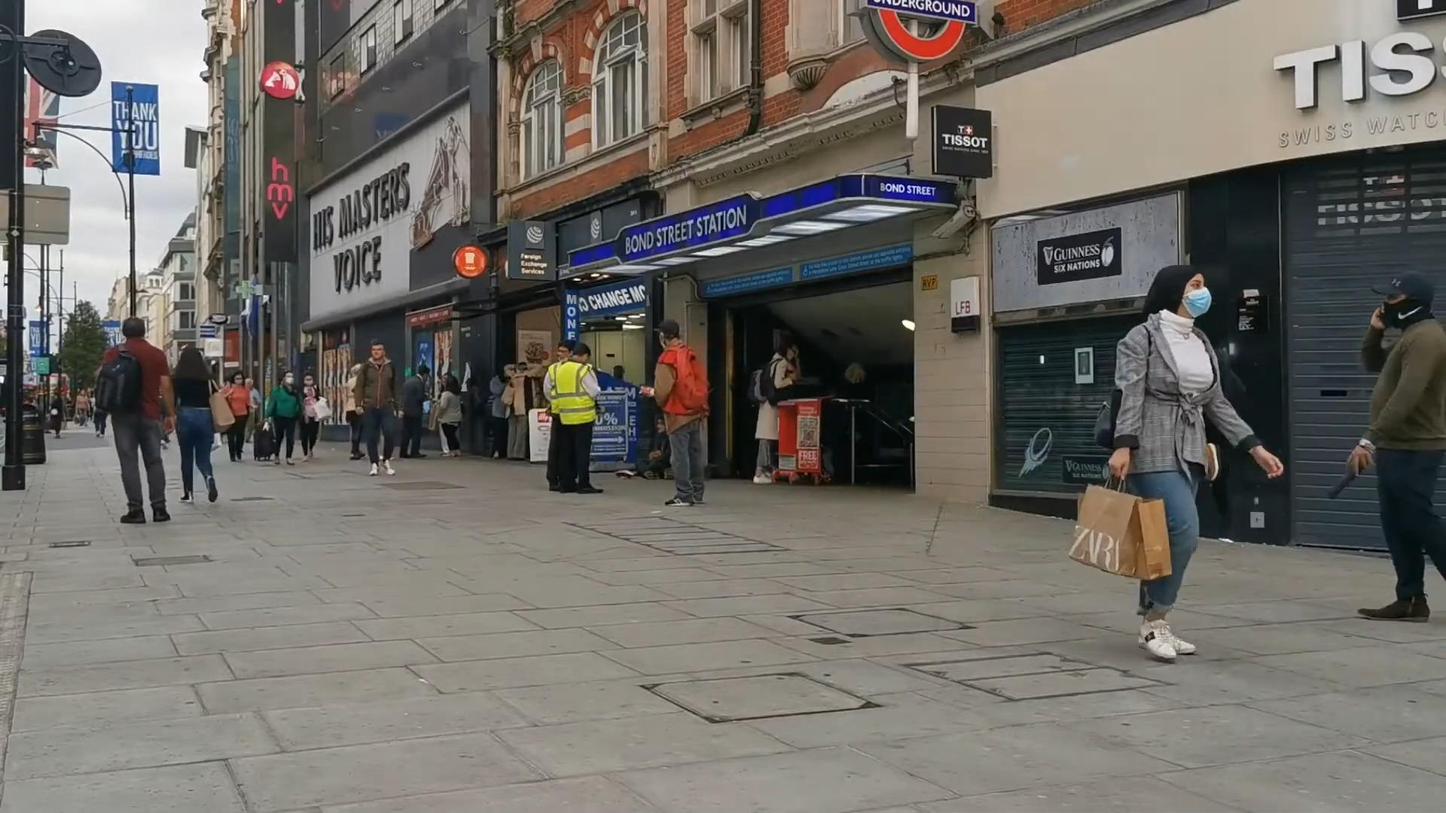no-helmet: (1140, 264, 1211, 318), (1370, 273, 1435, 330), (174, 347, 211, 380), (653, 319, 680, 350), (122, 316, 145, 339), (558, 340, 576, 362), (572, 343, 591, 363), (371, 340, 385, 360), (229, 371, 245, 385), (283, 370, 295, 386)
